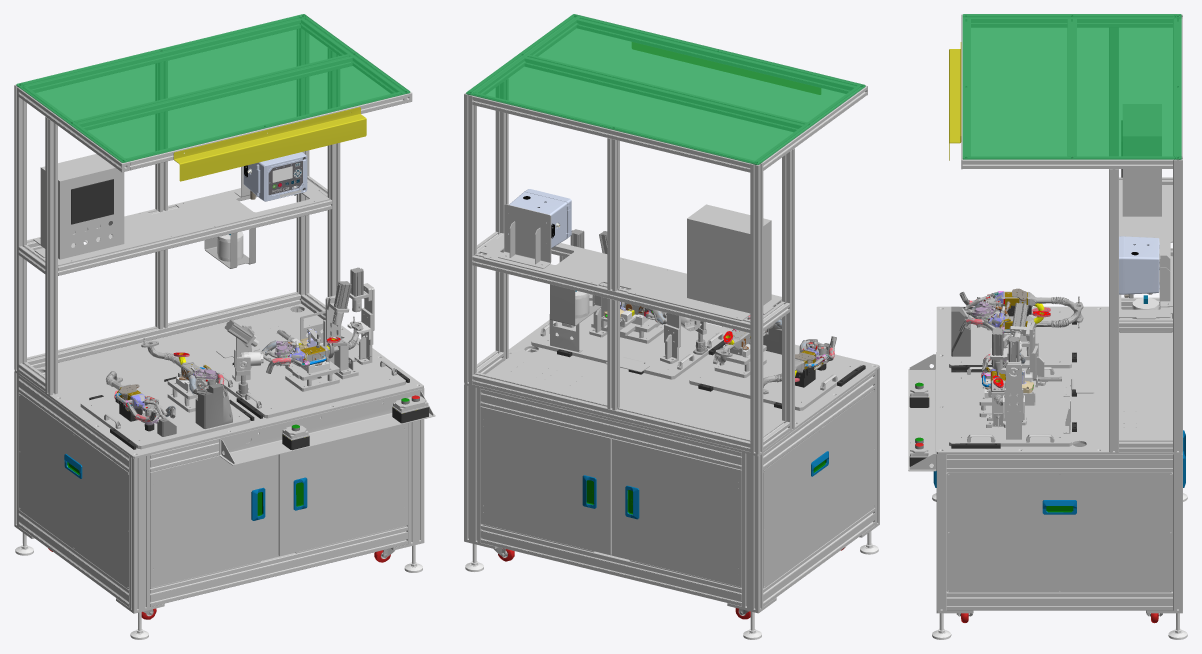
Rendered from station-03.glb.
The picture shows the model from 3 angles, left to right: view 1: azimuth 30°, elevation 25°; view 2: azimuth 150°, elevation 25°; view 3: azimuth 270°, elevation 25°; orthographic projection. The views are drawn at different scales.
Visible parts, largest first — view 1: part_000, part_030, part_029, part_001, part_027, part_031, part_004, part_026, part_032, part_002, part_020; view 2: part_000, part_030, part_001, part_031, part_004, part_029, part_032, part_027; view 3: part_000, part_030, part_001, part_031, part_029, part_027, part_004, part_026, part_002, part_032, part_011.
Part boxes in pixels (<box>): part_000: <box>14,14,435,613</box>; part_030: <box>16,14,410,162</box>; part_029: <box>173,107,366,181</box>; part_001: <box>106,228,395,616</box>; part_027: <box>71,157,428,450</box>; part_031: <box>243,152,307,201</box>; part_004: <box>15,231,422,639</box>; part_026: <box>157,383,419,436</box>; part_032: <box>64,454,307,520</box>; part_002: <box>94,267,363,460</box>; part_020: <box>141,166,338,424</box>; part_000: <box>464,14,879,613</box>; part_030: <box>466,14,865,164</box>; part_001: <box>494,284,836,615</box>; part_031: <box>509,189,571,248</box>; part_004: <box>465,291,878,639</box>; part_029: <box>632,42,820,94</box>; part_032: <box>582,451,828,519</box>; part_027: <box>557,340,865,408</box>; part_000: <box>908,14,1182,613</box>; part_030: <box>962,14,1181,159</box>; part_001: <box>956,291,1172,616</box>; part_031: <box>1119,236,1159,298</box>; part_029: <box>949,42,961,160</box>; part_027: <box>909,121,1122,466</box>; part_004: <box>932,297,1187,639</box>; part_026: <box>915,306,970,449</box>; part_002: <box>992,303,1059,474</box>; part_032: <box>933,430,1185,514</box>; part_011: <box>966,297,1050,388</box>.
Bounding box in the file's own units: 1.42 × 2.15 × 1.13.
